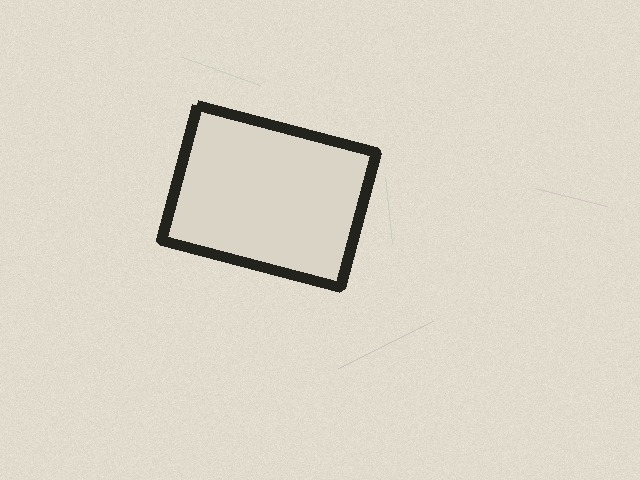parking_area: (161, 105, 376, 287)
